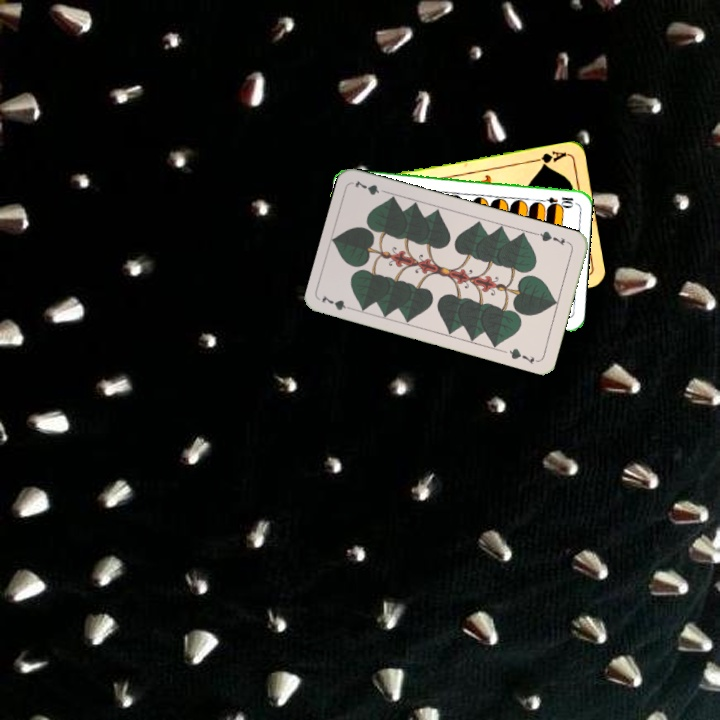E10: (535, 193, 576, 208)
G7: (318, 291, 358, 313), (533, 227, 572, 248)
GA: (529, 147, 569, 169)
